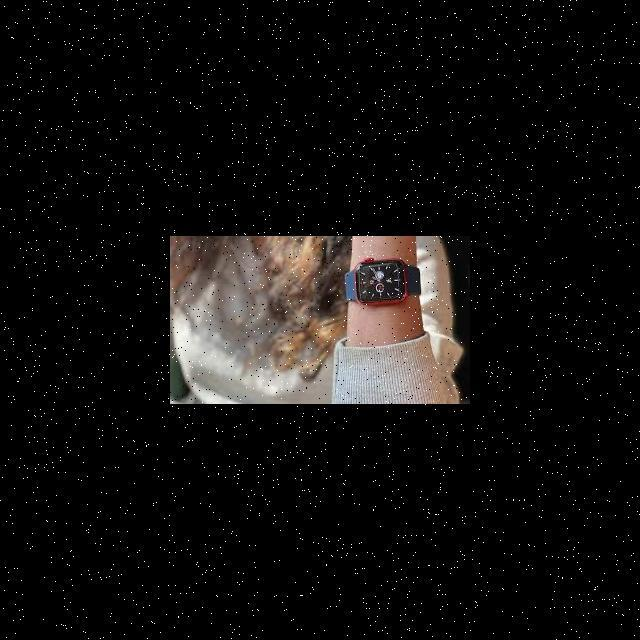watch: (325, 248, 430, 315)
